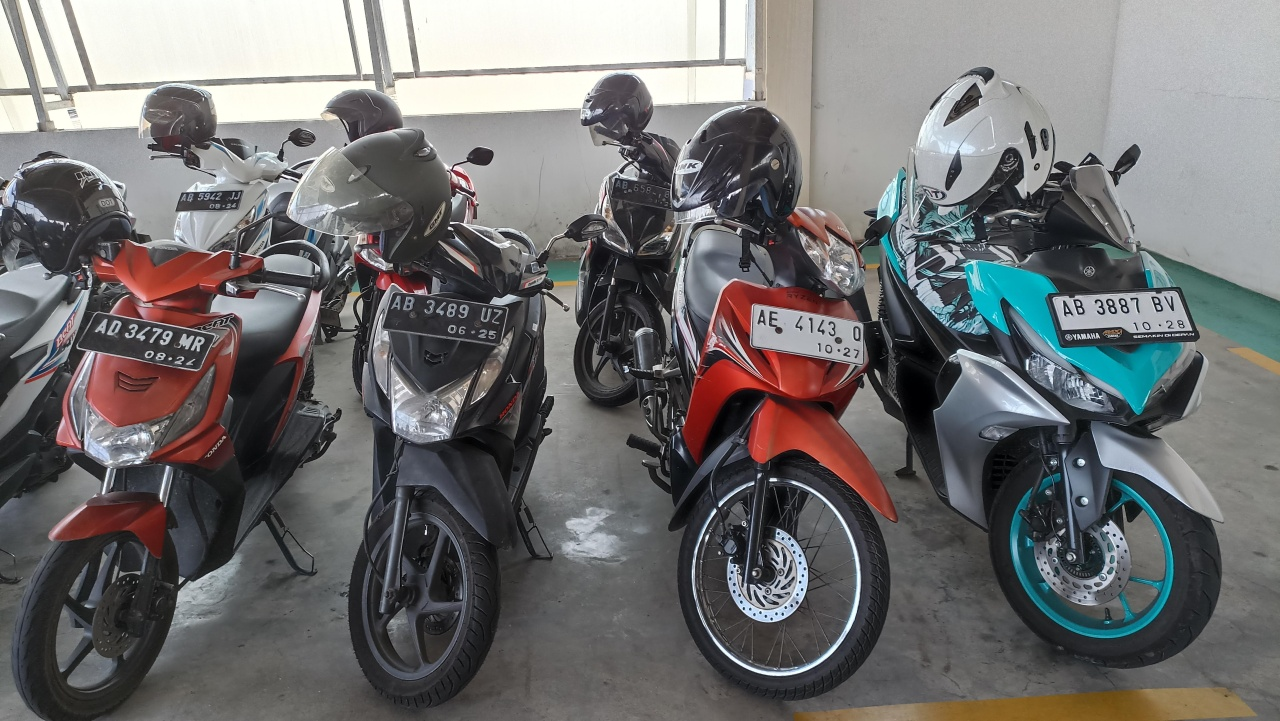plate: (1050, 287, 1198, 346), (75, 312, 217, 371), (751, 303, 864, 366), (382, 292, 509, 345), (175, 190, 244, 211)
